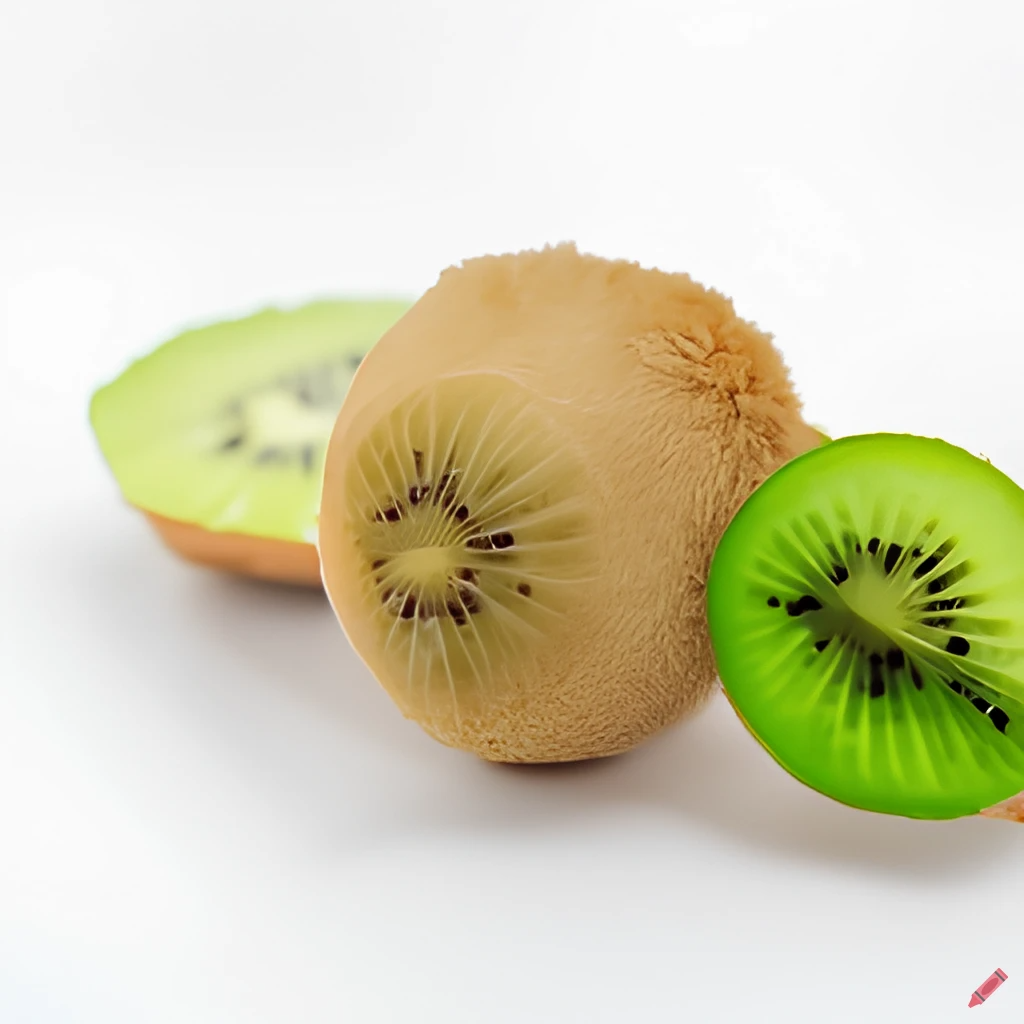Kiwi: (68, 294, 471, 586)
